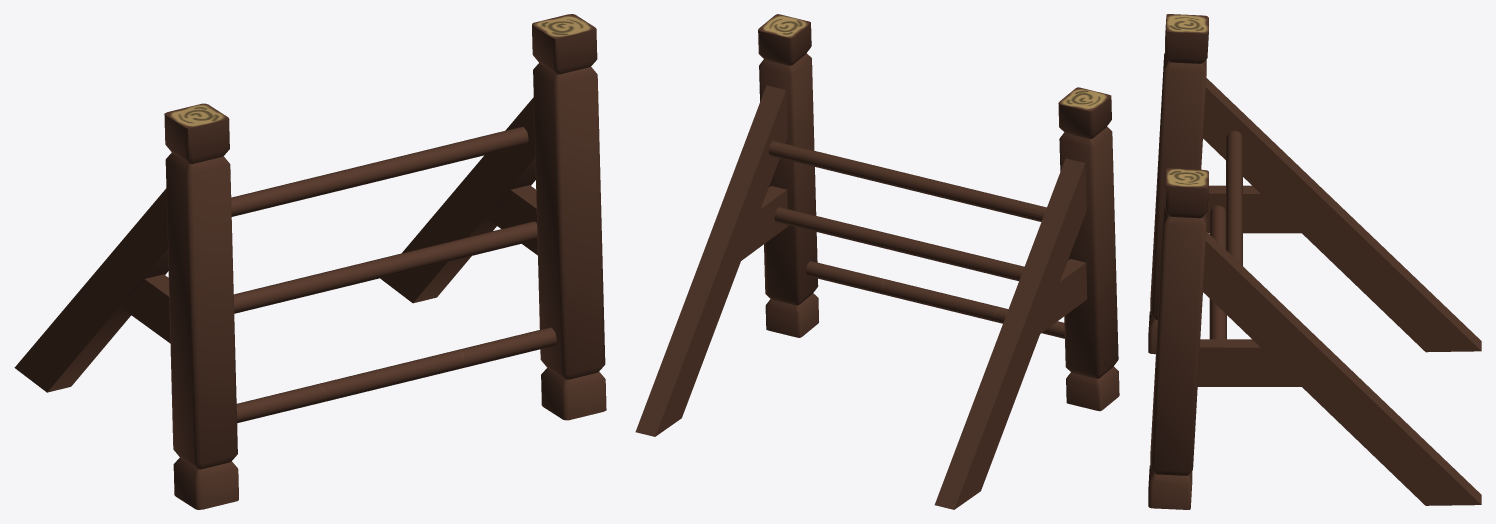
Rendered from Suporte_Arma.fbx.
The picture shows the model from 3 angles, left to right: view 1: azimuth 30°, elevation 25°; view 2: azimuth 150°, elevation 25°; view 3: azimuth 270°, elevation 25°; orthographic projection. The views are drawn at different scales.
Visible parts, largest first — view 1: Suporte_Armas; view 2: Suporte_Armas; view 3: Suporte_Armas.
Boxes of the visible parts, x1,y1,x2,y2 form: Suporte_Armas: (14,14,606,509); Suporte_Armas: (635,14,1119,509); Suporte_Armas: (1148,14,1481,509).
Bounding box in the file's own units: 115 × 100 × 93.76.
